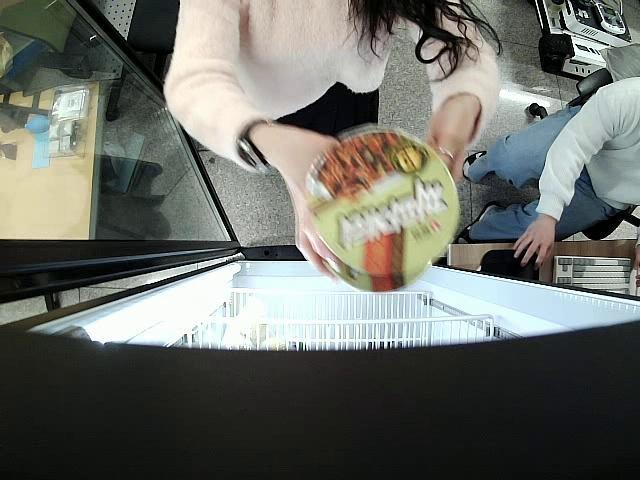03_chapagetti_L: (306, 128, 460, 275)
